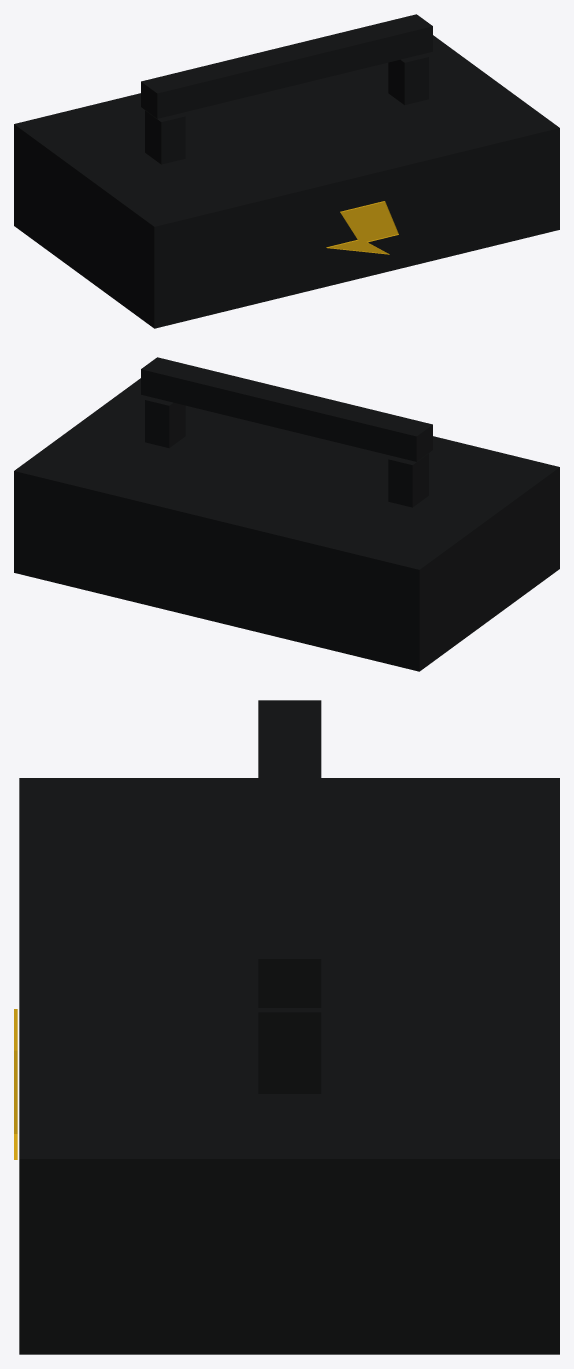
The model's file is Defibrillator.obj.
3 views of the same model, one above another, from view 1: azimuth 30°, elevation 25°; view 2: azimuth 150°, elevation 25°; view 3: azimuth 270°, elevation 25° (orthographic). The views are drawn at different scales.
Parts seen in each view (by area): view 1: Defibrillator; view 2: Defibrillator; view 3: Defibrillator.
Boxes of the visible parts, bbox=[...] form: Defibrillator: bbox=[14, 14, 559, 328]; Defibrillator: bbox=[14, 357, 559, 671]; Defibrillator: bbox=[14, 700, 559, 1354].
Bounding box in the file's own units: 0.5 × 0.205 × 0.303.
